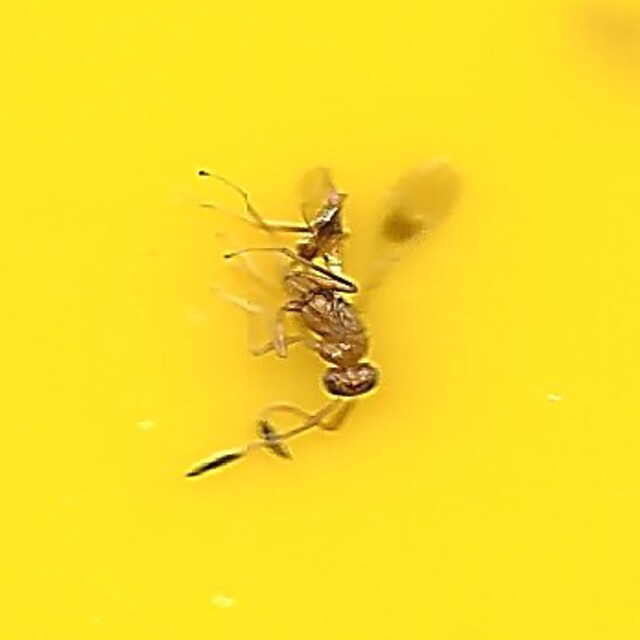Hymenoptera: (184, 161, 456, 479)
